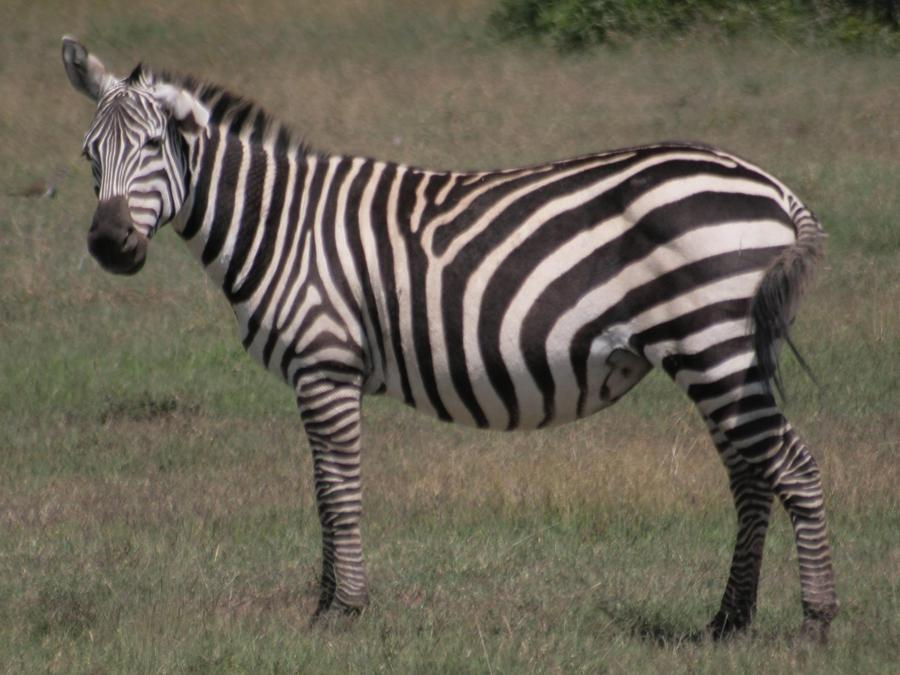zebra_plains: (241, 132, 793, 409)
